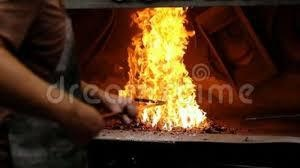fire: (120, 6, 204, 128)
